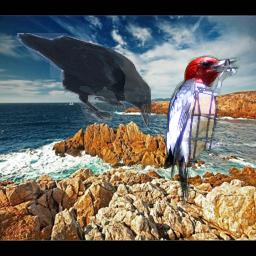Crow: (17, 33, 151, 125)
Woodpecker: (164, 55, 243, 208)
